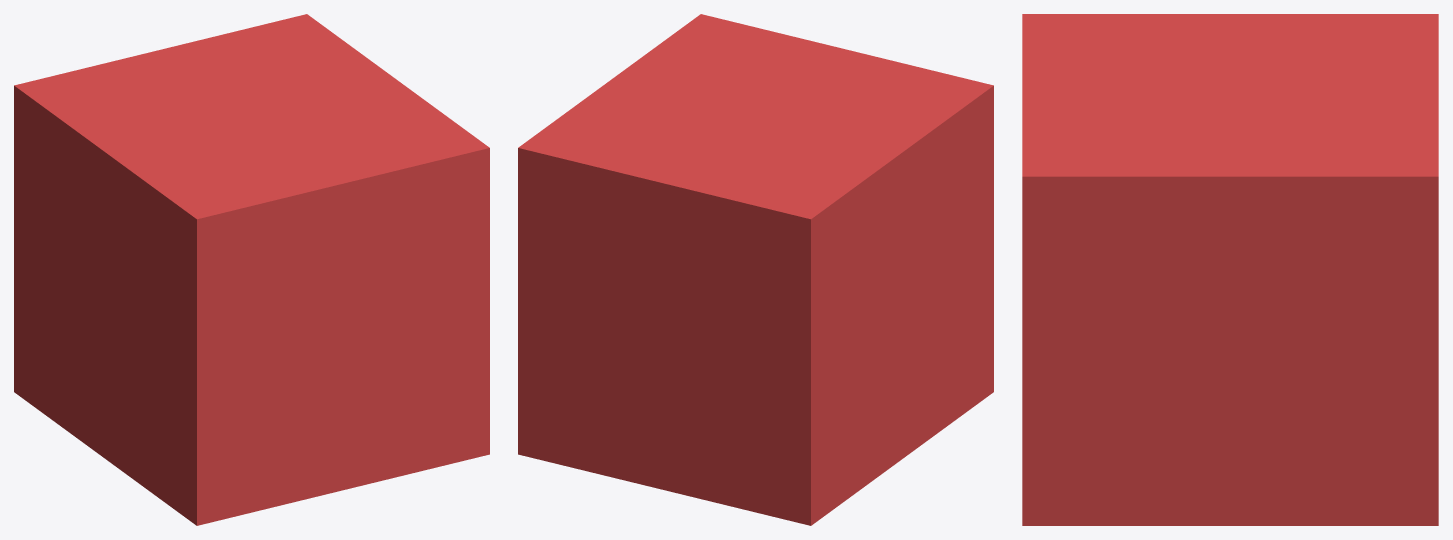
The model's file is 316-K DERI PUF KIRMIZI - LEATHER POUFFE RED.glb.
3 renders of one model, left to right at view 1: azimuth 30°, elevation 25°; view 2: azimuth 150°, elevation 25°; view 3: azimuth 270°, elevation 25°, orthographic. The views are drawn at different scales.
Parts seen in each view (by area): view 1: body; view 2: body; view 3: body.
Boxes of the visible parts, left/top/right/bottom form: body: left=14, top=14, right=489, bottom=525; body: left=518, top=14, right=993, bottom=525; body: left=1022, top=14, right=1438, bottom=525.
Bounding box in the file's own units: 0.37 × 0.37 × 0.4.
